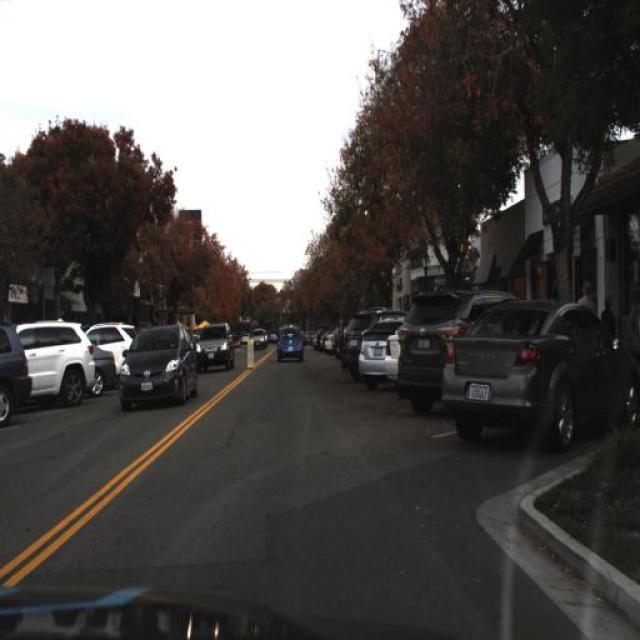car: (438, 299, 638, 449), (394, 285, 520, 413), (114, 319, 202, 412), (16, 318, 96, 409), (354, 308, 412, 391), (0, 309, 32, 432), (194, 318, 234, 372), (275, 324, 307, 366), (250, 328, 266, 347)
